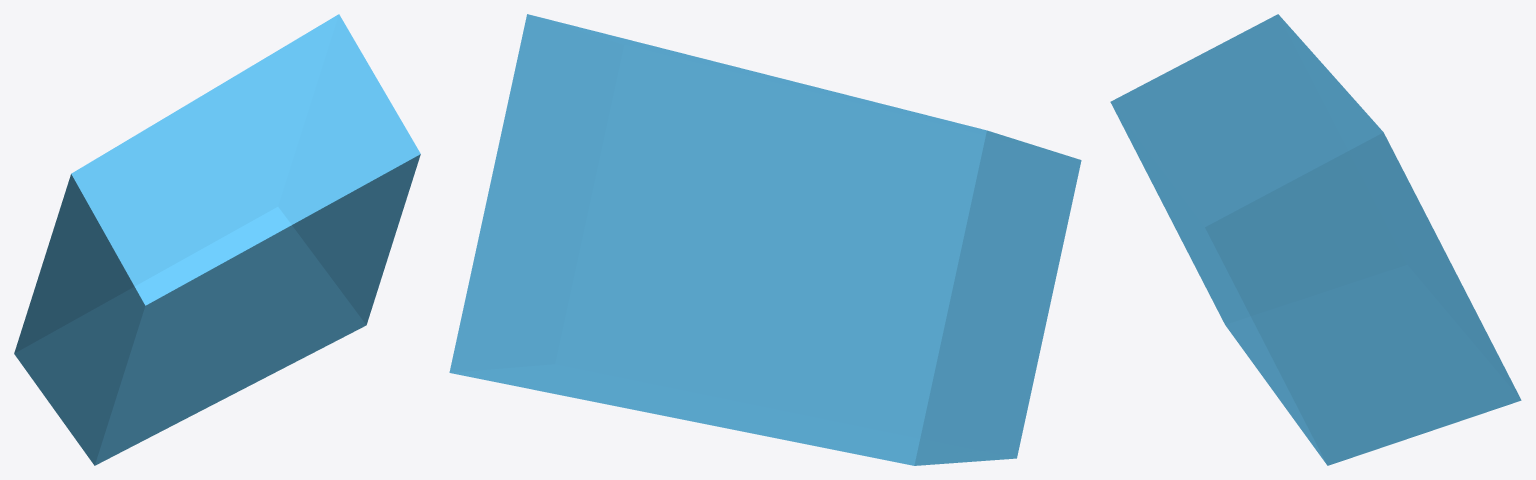
Rendered from Event_421115418_HErechit_91.fbx.
3 renders of one model, left to right at view 1: azimuth 30°, elevation 25°; view 2: azimuth 150°, elevation 25°; view 3: azimuth 270°, elevation 25°, orthographic. The views are drawn at different scales.
Visible parts, largest first — view 1: Model; view 2: Model; view 3: Model.
Part boxes in pixels (<box>): Model: <box>14,14,420,465</box>; Model: <box>449,14,1081,465</box>; Model: <box>1110,14,1521,465</box>.
Bounding box in the file's own units: 0.7768 × 0.7576 × 0.7717.
